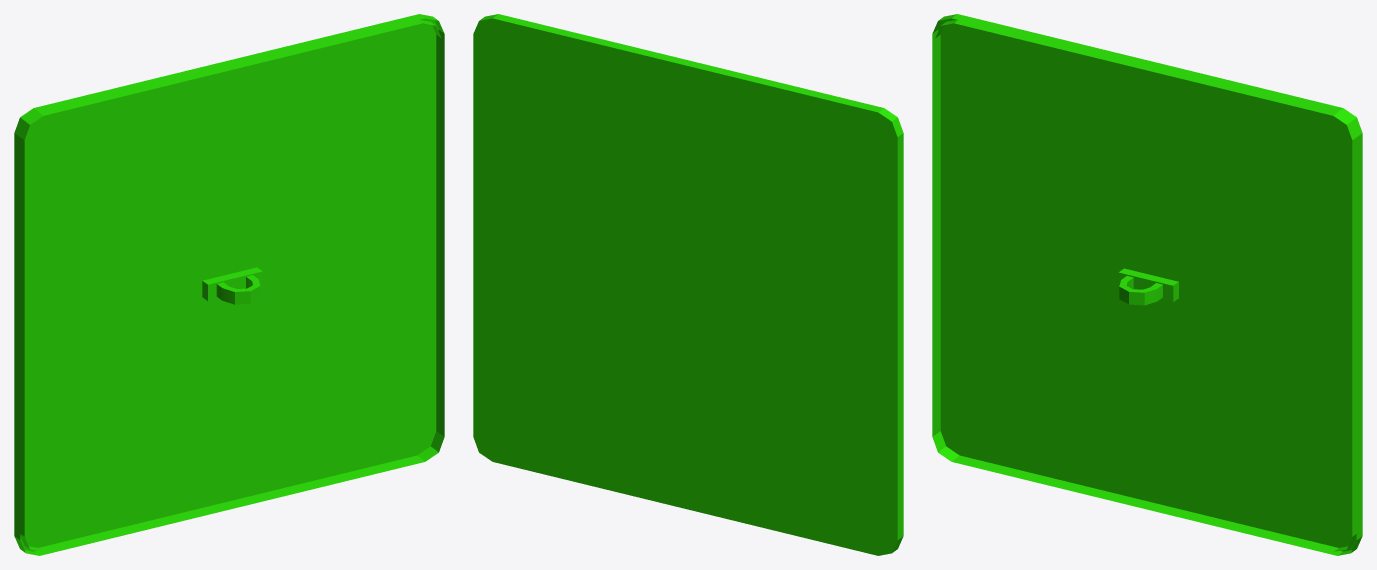
File: Road_Sign_Base_10_Lod0.fbx
The picture shows the model from 3 angles, left to right: view 1: azimuth 30°, elevation 25°; view 2: azimuth 150°, elevation 25°; view 3: azimuth 330°, elevation 25°; orthographic projection.
Visible parts, largest first — view 1: Road_Sign_Base_10_Lod0; view 2: Road_Sign_Base_10_Lod0; view 3: Road_Sign_Base_10_Lod0.
Boxes of the visible parts, <box> form: Road_Sign_Base_10_Lod0: <box>14,14,444,555</box>; Road_Sign_Base_10_Lod0: <box>473,14,903,555</box>; Road_Sign_Base_10_Lod0: <box>932,14,1362,555</box>.
Size of the model in its own units: 53.55 by 53.49 by 4.99.
